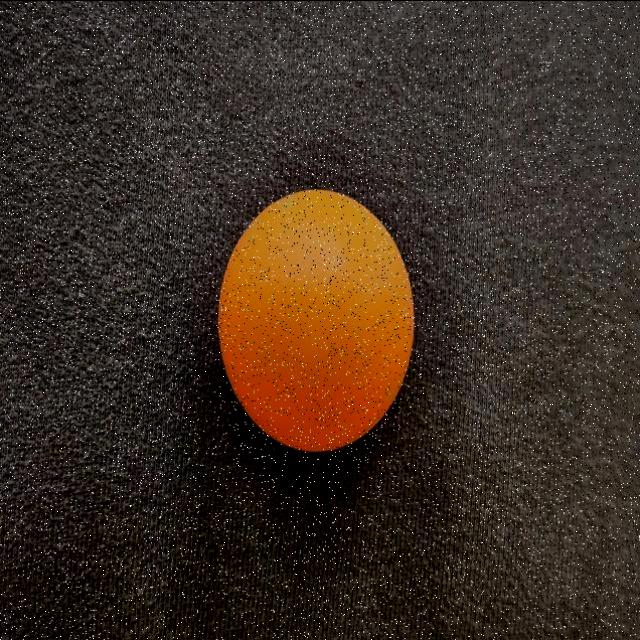ping-pong-ball: (210, 168, 426, 470)
